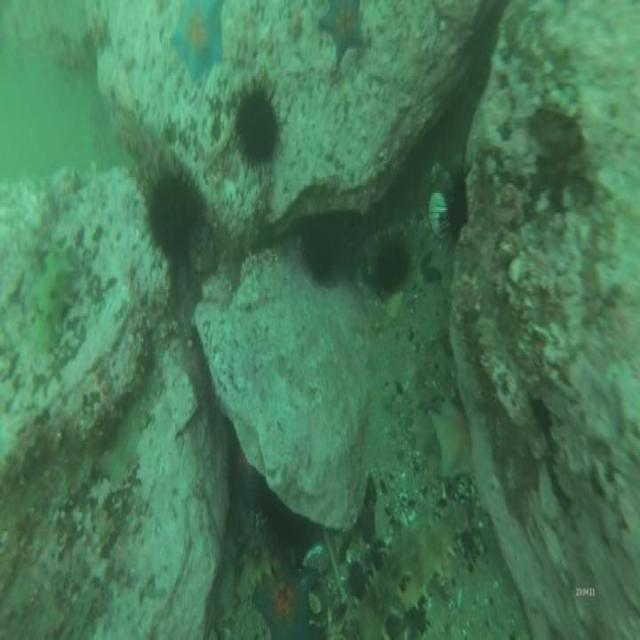echinus: (151, 175, 198, 256), (236, 93, 278, 163), (300, 215, 344, 280), (376, 240, 410, 288), (448, 183, 468, 237)
holothurian: (350, 517, 422, 638), (406, 498, 476, 610), (32, 251, 77, 351)
scallop: (429, 190, 447, 238)
starfish: (257, 554, 317, 640), (168, 0, 221, 77), (434, 396, 474, 476), (319, 2, 365, 60)
